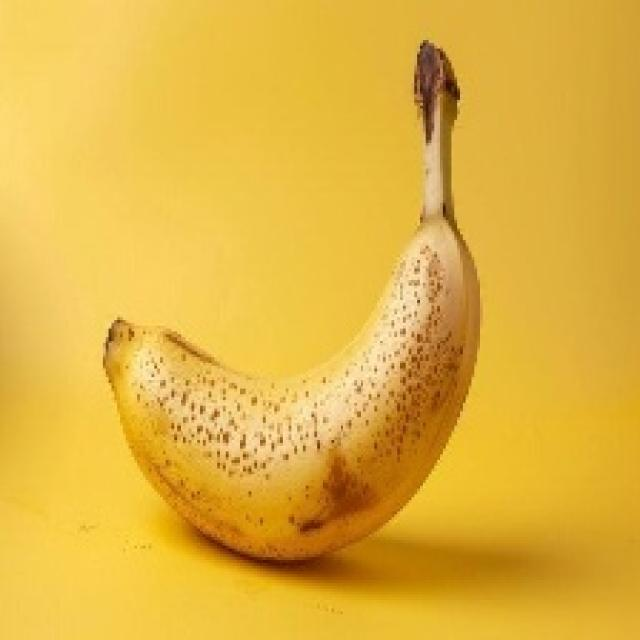Banana: (100, 37, 480, 563)
